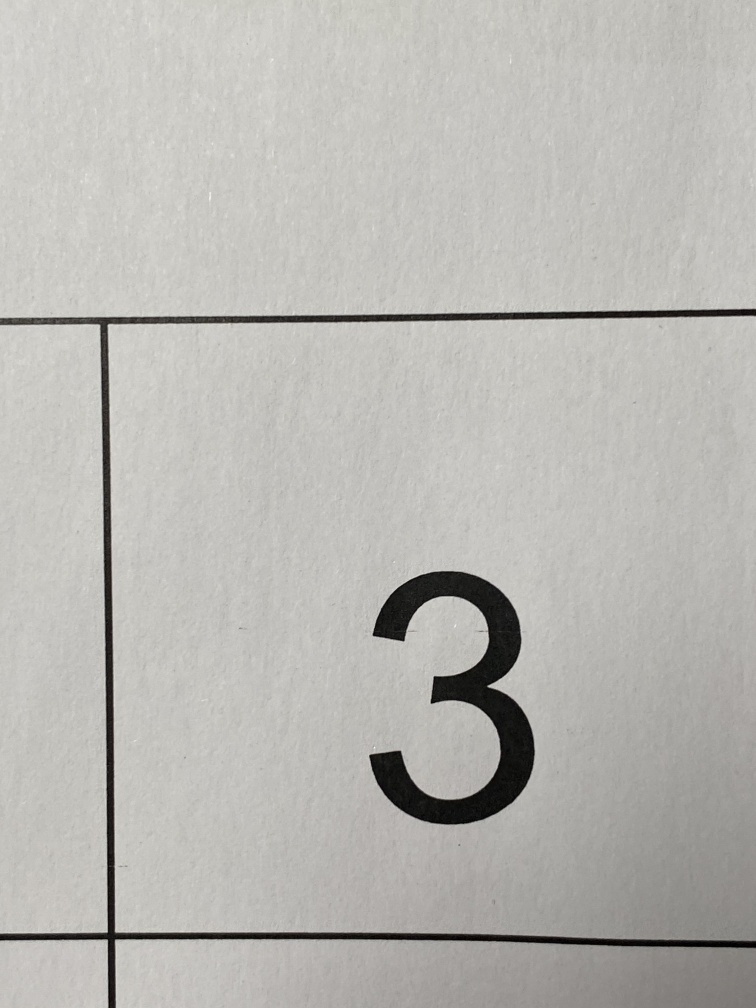three: (321, 515, 591, 888)
